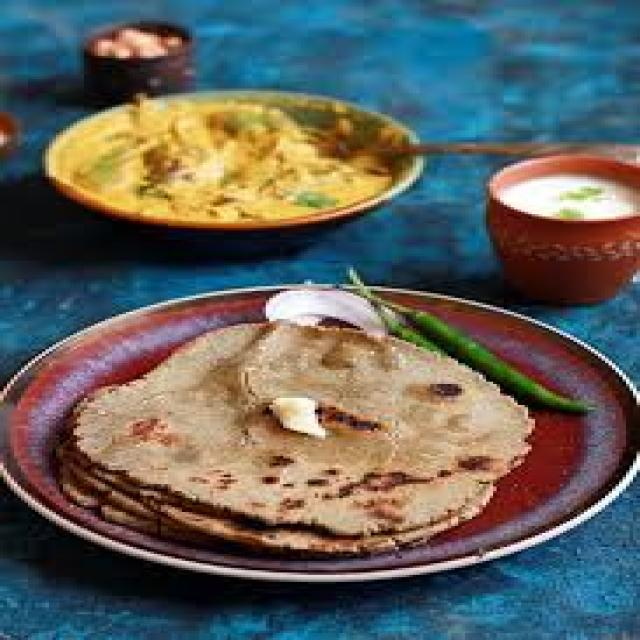ROTI: (70, 323, 532, 549)
